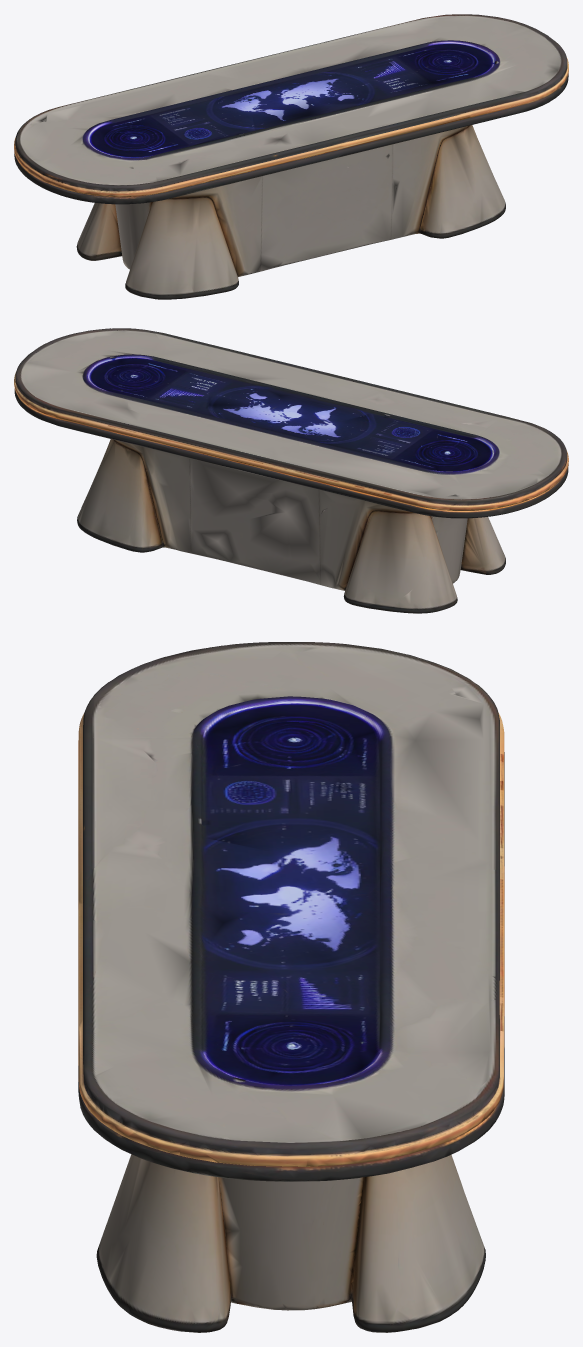
File: future-table.glb
3 renders of one model, top to bottom at view 1: azimuth 30°, elevation 25°; view 2: azimuth 150°, elevation 25°; view 3: azimuth 270°, elevation 25°, orthographic. The views are drawn at different scales.
Parts seen in each view (by area): view 1: node_0; view 2: node_0; view 3: node_0.
Boxes of the visible parts, left/top/right/bottom form: node_0: left=14, top=14, right=568, bottom=299; node_0: left=14, top=328, right=568, bottom=613; node_0: left=78, top=642, right=504, bottom=1332.
Size of the model in its own units: 1.17 by 0.281 by 0.4151.
Materials: 1 (1 with a texture image).
